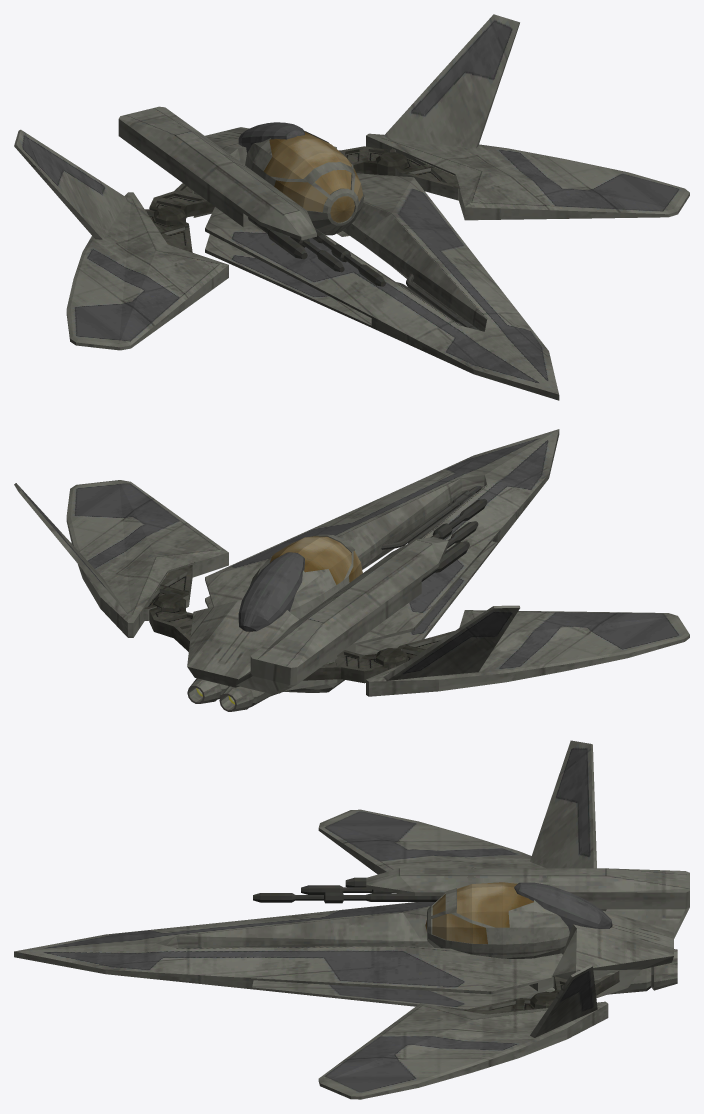
The model's file is Eta-3.obj.
3 views of the same model, one above another, from view 1: azimuth 30°, elevation 25°; view 2: azimuth 150°, elevation 25°; view 3: azimuth 270°, elevation 25° (orthographic). The views are drawn at different scales.
Parts seen in each view (by area): view 1: Hull, Wing_L, Wing_R; view 2: Hull, Wing_R, Wing_L; view 3: Hull, Wing_L, Wing_R.
Boxes of the visible parts, x1,y1,x2,y2 form: Hull: (118,106,559,400); Wing_L: (366,14,689,220); Wing_R: (14,129,228,350); Hull: (149,429,559,711); Wing_R: (366,605,689,696); Wing_L: (14,480,228,637); Hull: (14,868,689,1010); Wing_L: (318,964,608,1099); Wing_R: (318,740,596,874).
Bounding box in the file's own units: 106 × 24.14 × 106.
